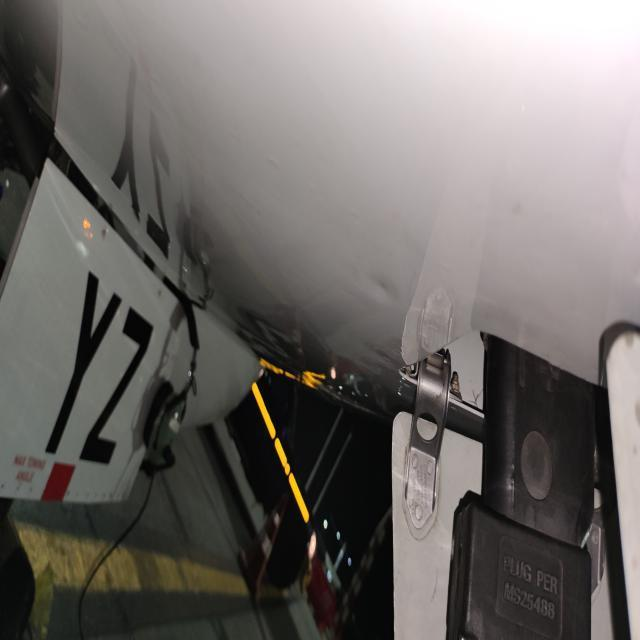dent: (353, 262, 402, 314)
